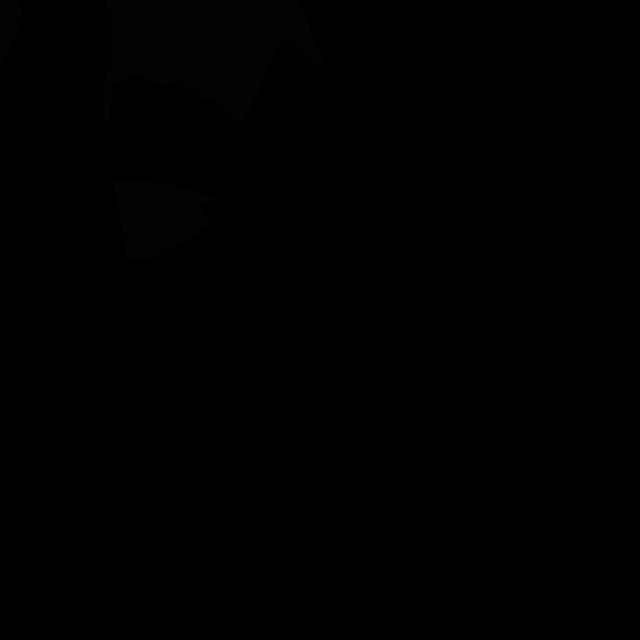cardboard: (103, 0, 330, 147), (112, 177, 218, 262)
